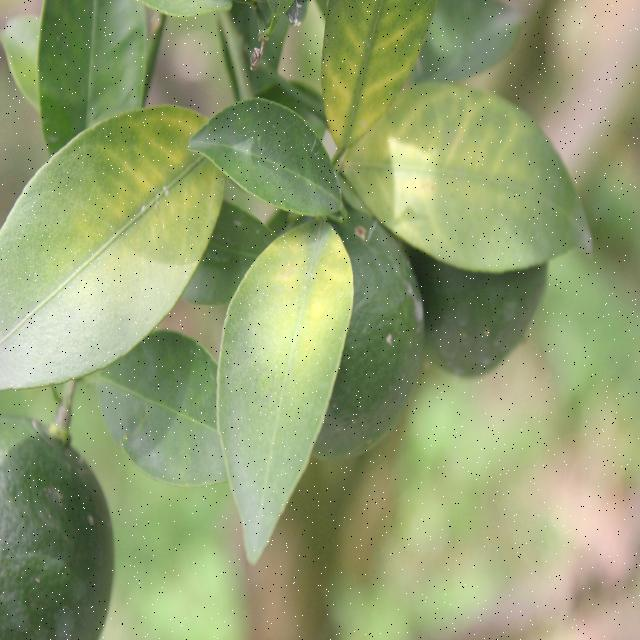greening: (8, 97, 206, 359), (363, 86, 584, 262), (218, 232, 356, 495)
